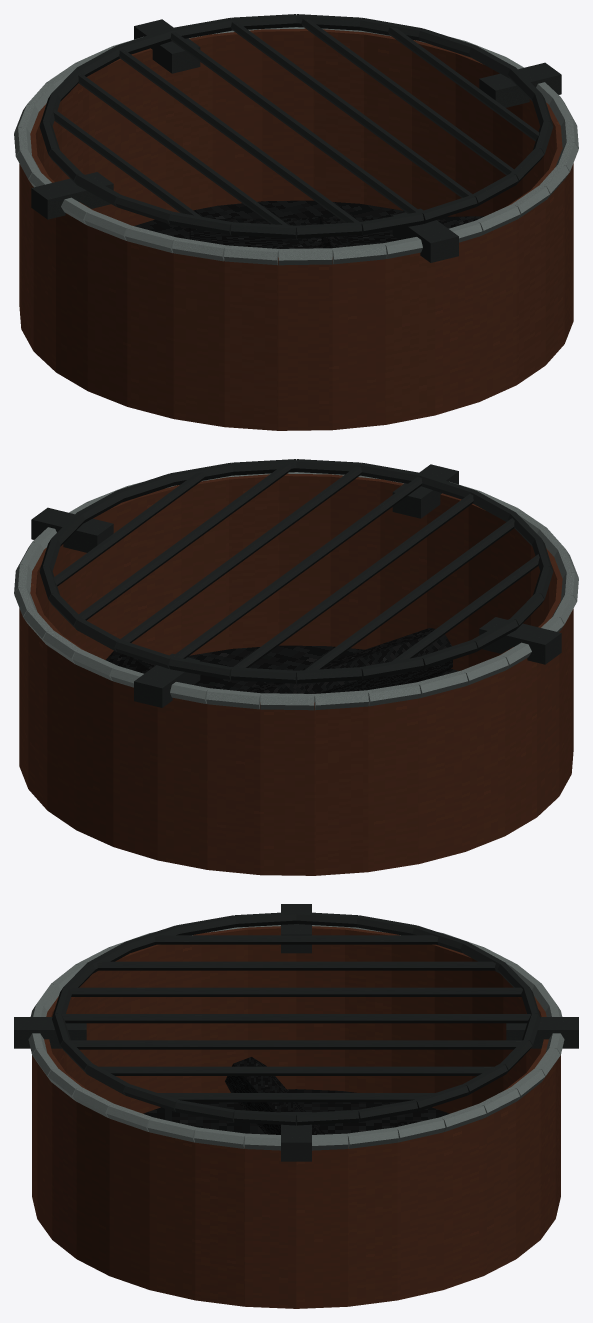
Rendered from level_camp_fire_ring.glb.
The picture shows the model from 3 angles, top to bottom: view 1: azimuth 30°, elevation 25°; view 2: azimuth 150°, elevation 25°; view 3: azimuth 270°, elevation 25°; orthographic projection. The views are drawn at different scales.
Visible parts, largest first — view 1: level_camp_fire_ring; view 2: level_camp_fire_ring; view 3: level_camp_fire_ring.
Part boxes in pixels (x1=…): level_camp_fire_ring: x1=14, y1=14, x2=578, y2=430; level_camp_fire_ring: x1=14, y1=459, x2=578, y2=875; level_camp_fire_ring: x1=14, y1=904, x2=578, y2=1308.
Bounding box in the file's own units: 1.09 × 0.3904 × 1.09.
Materials: 4 (4 with a texture image).
